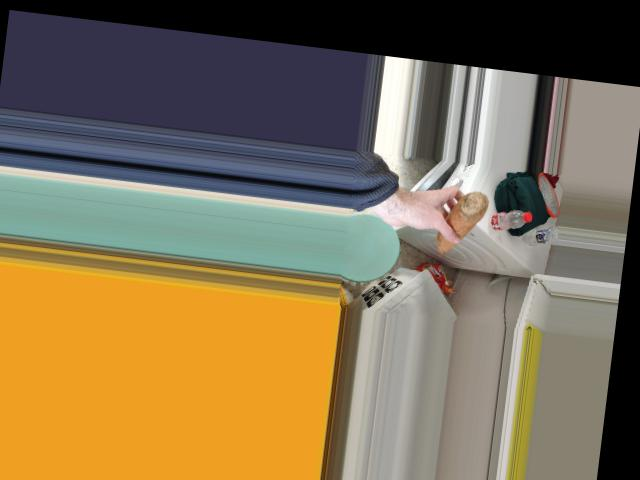sweet_potato: (437, 188, 490, 258)
